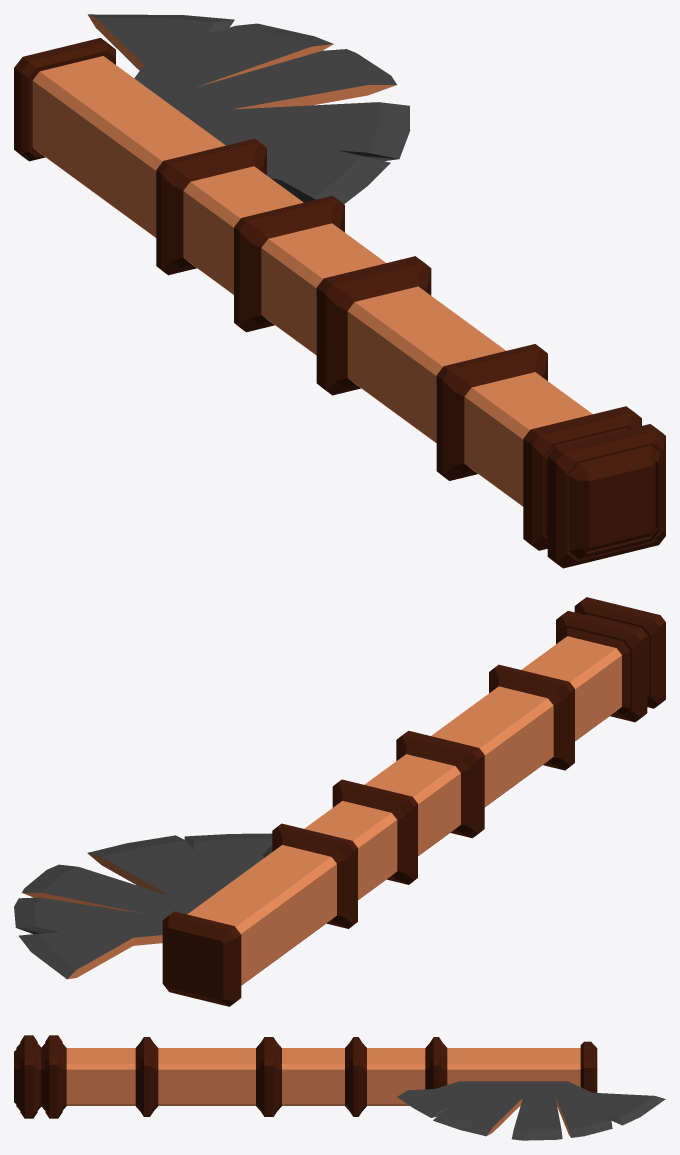
3 views of the same model, one above another, from view 1: azimuth 30°, elevation 25°; view 2: azimuth 150°, elevation 25°; view 3: azimuth 270°, elevation 25° (orthographic). The views are drawn at different scales.
Parts seen in each view (by area): view 1: 37; view 2: 37; view 3: 37.
Part boxes in pixels (x1,y1,x2,y2): 37: (14,14,665,568); 37: (14,597,665,1006); 37: (14,1035,665,1140).
Size of the model in its own units: 14.12 by 4.87 by 48.53.
